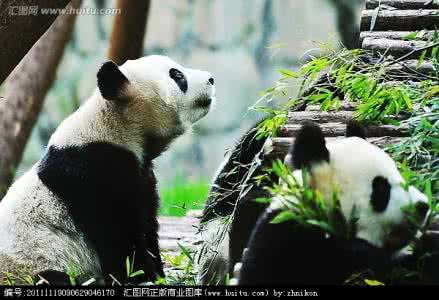panda: (1, 50, 217, 290), (241, 125, 434, 297)
